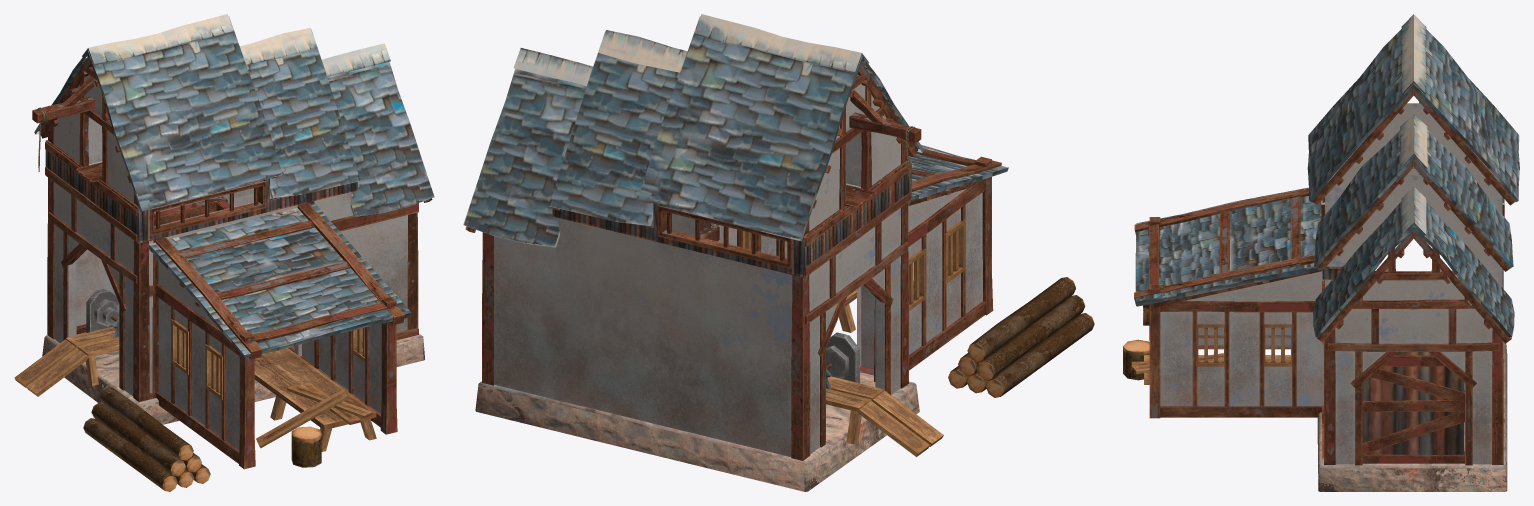
File: ENG_Sawmill.fbx
The picture shows the model from 3 angles, left to right: view 1: azimuth 30°, elevation 25°; view 2: azimuth 150°, elevation 25°; view 3: azimuth 270°, elevation 25°; orthographic projection. The views are drawn at different scales.
Parts seen in each view (by area): view 1: 1, Cube.014, 3, Plane.006, 2, Cube.015, Cube.030, Cube.022, Cube.023, Plane.019, Cube.034, Plane.007 (+31 smaller); view 2: 3, 1, Plane.007, 2, Plane.006, Cube.030, Cylinder.001, Cylinder.006, Cube.015, Cube.035, Cylinder.007, Plane.010 (+19 smaller); view 3: 1, Plane.026, 3.002, Cube.014, Plane.007, 3, Plane.048, 2, Cube.036, Plane.019, Plane.029, Plane.040 (+21 smaller).
Part boxes in pixels (x1,y1,x2,y2): 1: [34, 16, 434, 216]; Cube.014: [149, 203, 411, 357]; 3: [54, 75, 407, 396]; Plane.006: [158, 259, 239, 450]; 2: [82, 14, 390, 76]; Cube.015: [45, 140, 357, 243]; Cube.030: [47, 126, 149, 401]; Cube.022: [239, 297, 397, 469]; Cube.023: [254, 348, 376, 429]; Plane.019: [155, 203, 404, 359]; Cube.034: [180, 220, 393, 342]; Plane.007: [42, 332, 424, 424]; 3: [494, 84, 900, 456]; 1: [463, 16, 923, 247]; Plane.007: [475, 372, 919, 491]; 2: [513, 14, 869, 86]; Plane.006: [908, 188, 982, 354]; Cube.030: [791, 143, 908, 460]; Cylinder.001: [948, 313, 1094, 397]; Cylinder.006: [958, 295, 1085, 379]; Cube.015: [804, 158, 911, 277]; Cube.035: [552, 204, 804, 277]; Cylinder.007: [967, 277, 1075, 361]; Plane.010: [858, 391, 943, 456]; 1: [1307, 29, 1519, 337]; Plane.026: [1160, 271, 1324, 406]; 3.002: [1335, 269, 1492, 464]; Cube.014: [1135, 187, 1321, 306]; Plane.007: [1317, 341, 1507, 491]; 3: [1325, 103, 1502, 287]; Plane.048: [1362, 352, 1464, 454]; 2: [1400, 14, 1427, 236]; Cube.036: [1324, 329, 1503, 464]; Plane.019: [1134, 188, 1314, 305]; Plane.029: [1192, 309, 1296, 406]; Plane.040: [1312, 88, 1514, 205].
Bounding box in the file's own units: 721 × 677 × 697.
Materials: 1 (1 with a texture image).
